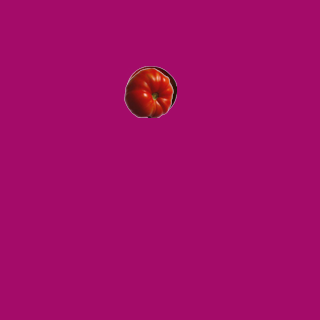Apple Braeburn: (126, 65, 176, 115)
Tomato 3: (123, 67, 173, 117)
